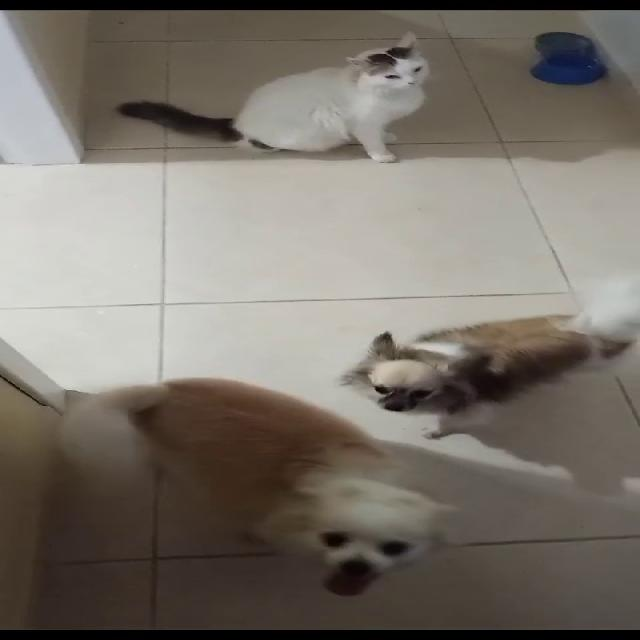Pedrita: (54, 336, 479, 608), (366, 279, 638, 412)
Theo: (54, 336, 479, 608)
